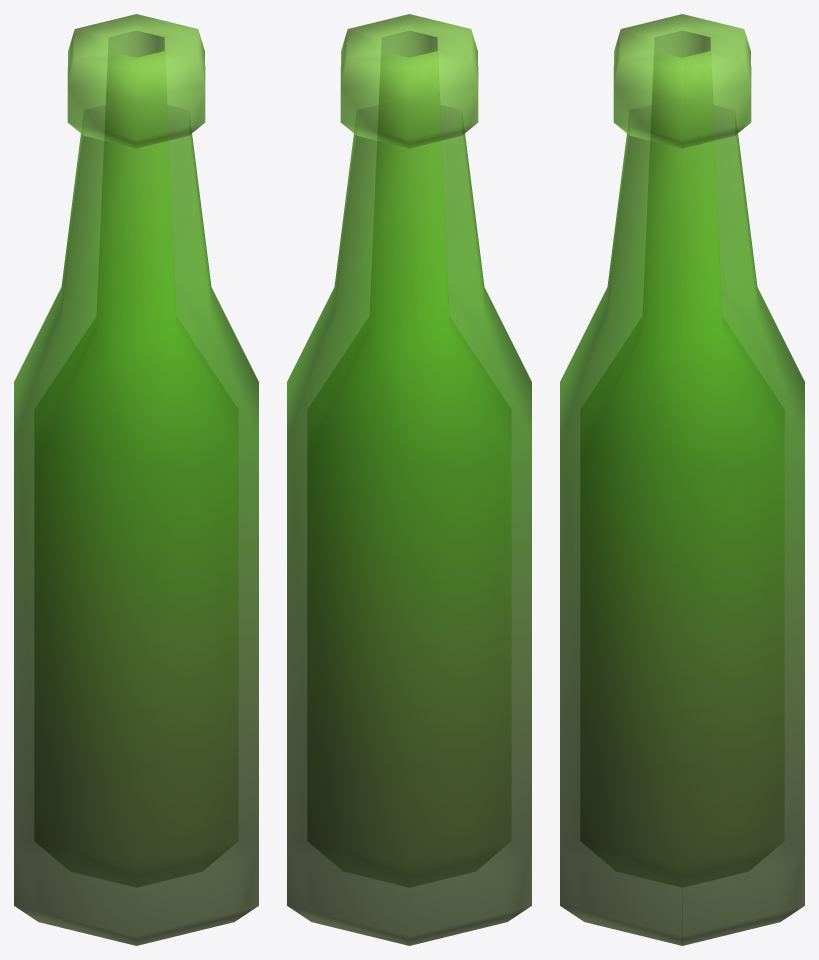
Rendered from Bottle.fbx.
The picture shows the model from 3 angles, left to right: view 1: azimuth 30°, elevation 25°; view 2: azimuth 150°, elevation 25°; view 3: azimuth 270°, elevation 25°; orthographic projection.
Parts seen in each view (by area): view 1: Bottle; view 2: Bottle; view 3: Bottle.
Part boxes in pixels (x1,y1,x2,y2): Bottle: [14, 14, 258, 945]; Bottle: [287, 14, 531, 945]; Bottle: [560, 14, 804, 945].
Bounding box in the file's own units: 30 × 100 × 25.98.
